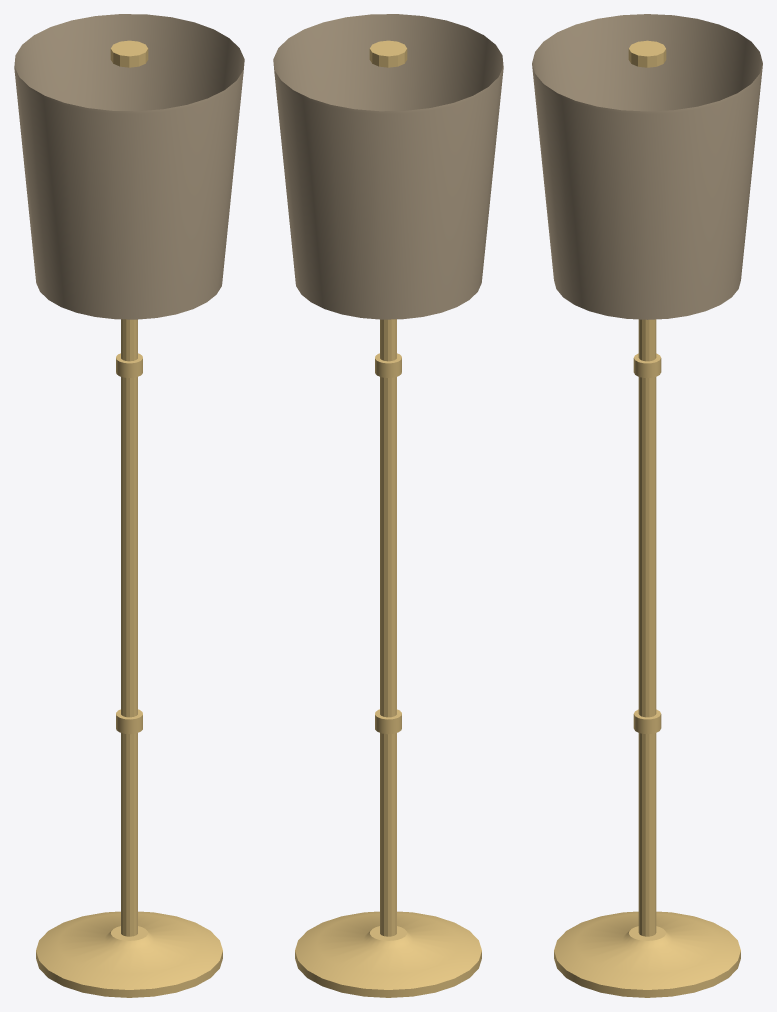
File: toy_floor_lamp.fbx
The picture shows the model from 3 angles, left to right: view 1: azimuth 30°, elevation 25°; view 2: azimuth 150°, elevation 25°; view 3: azimuth 270°, elevation 25°; orthographic projection.
Parts seen in each view (by area): view 1: shade_1, brass_1; view 2: shade_1, brass_1; view 3: shade_1, brass_1.
Part boxes in pixels (box(x1,y1,x2,y2)): shade_1: box(14, 14, 244, 319); brass_1: box(36, 40, 222, 997); shade_1: box(273, 14, 503, 319); brass_1: box(295, 40, 481, 997); shade_1: box(532, 14, 762, 319); brass_1: box(554, 40, 740, 997).
Bounding box in the file's own units: 0.888 × 3.86 × 0.888.
